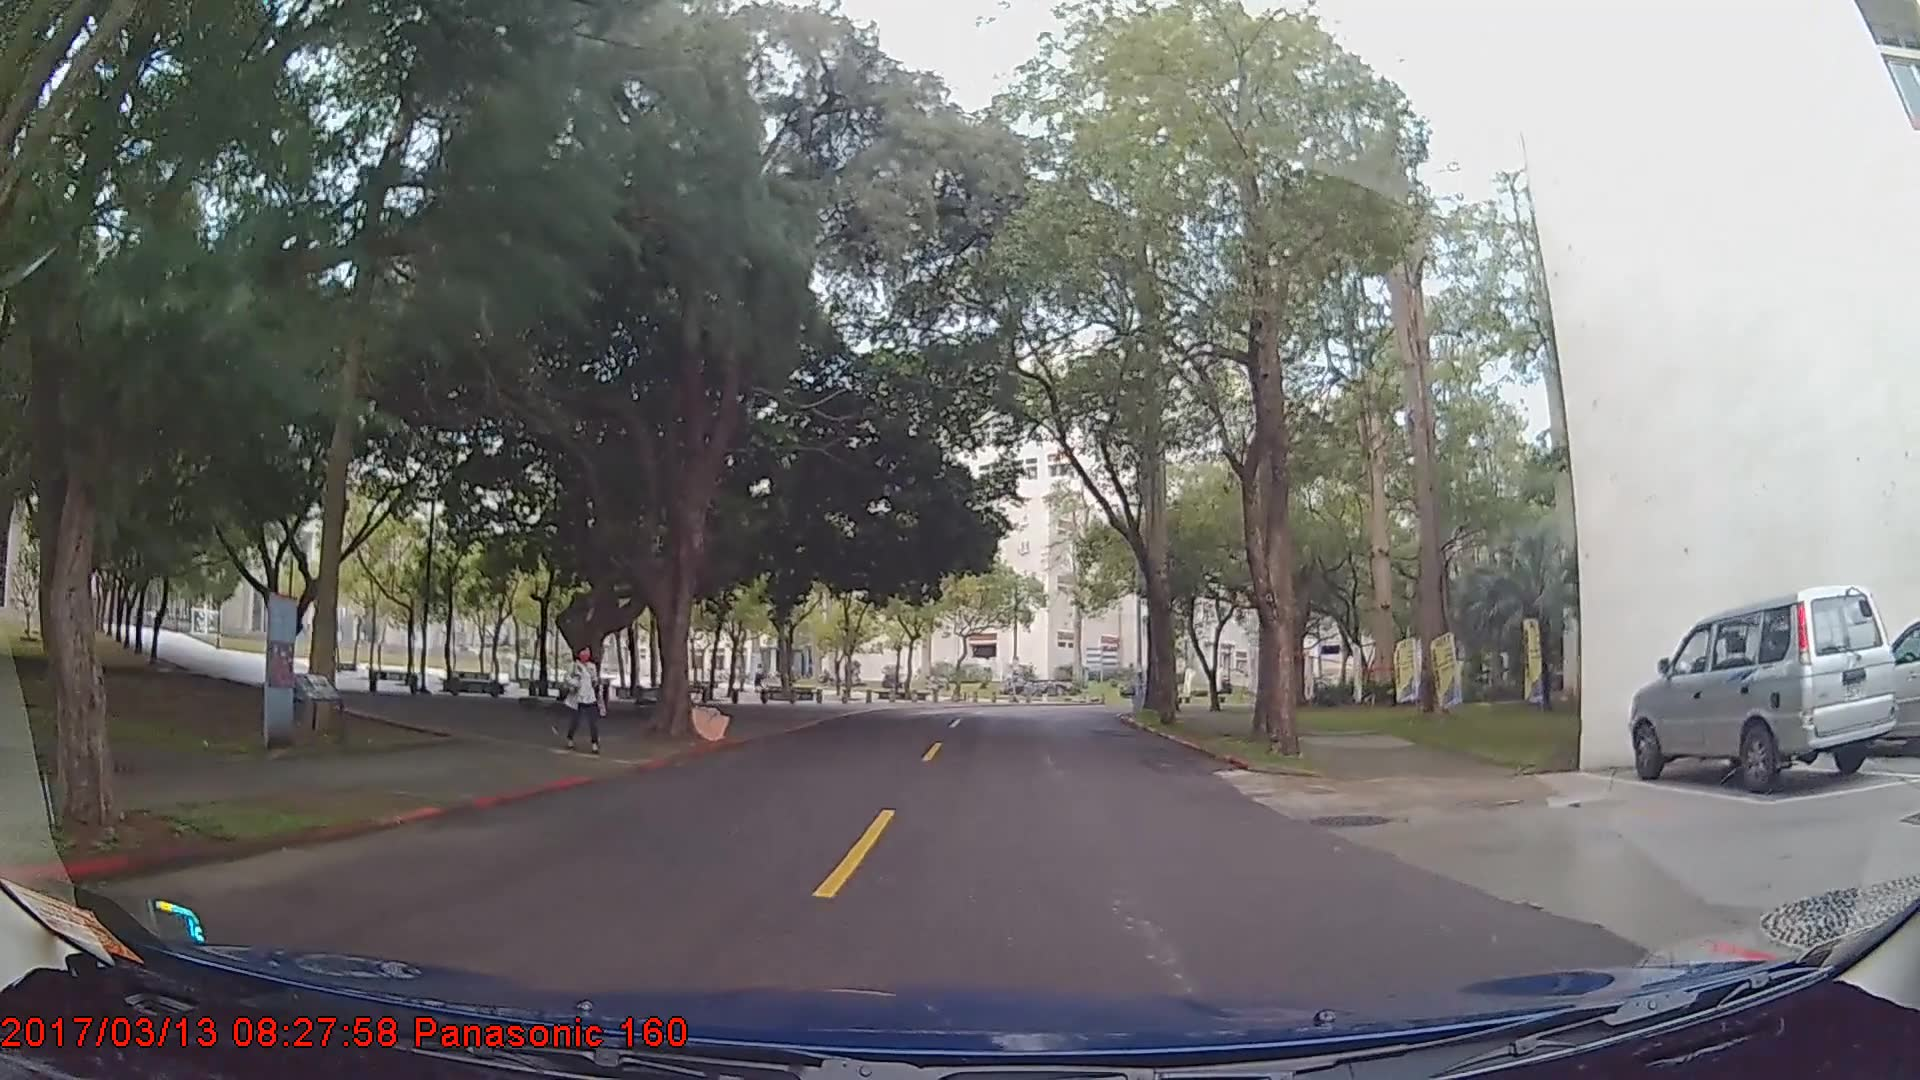pedestrian: (565, 646, 609, 751)
vehicle: (1630, 586, 1896, 797)
